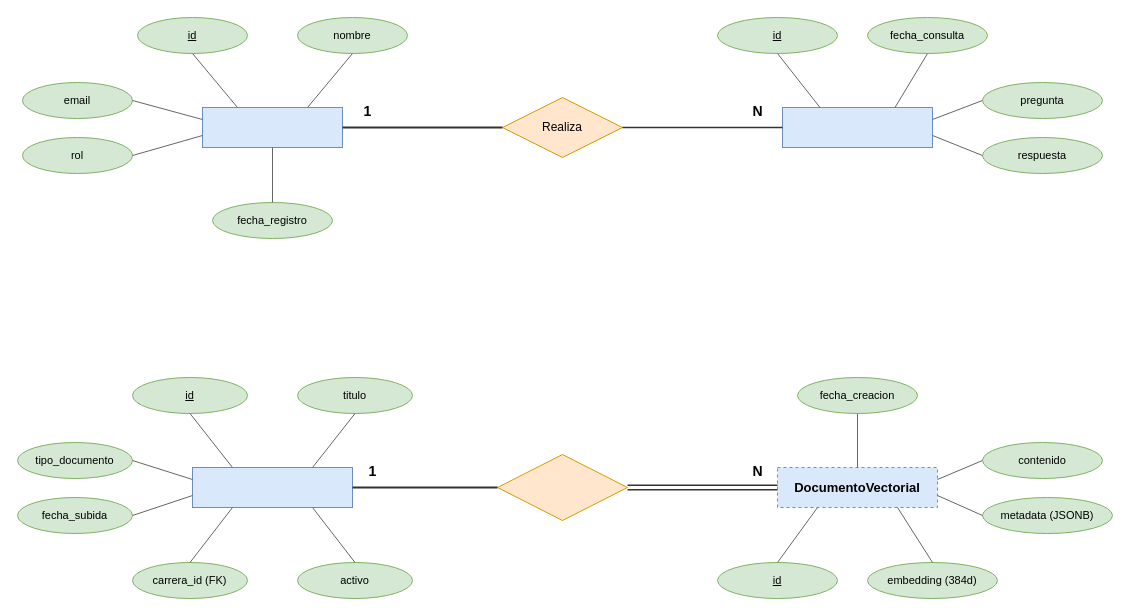
Some shapes in this 1130 by 616 pixel diagram are drawn without their labels. The centre of each missing label's shape, as x and y in pixels:
DocumentoMetadata: point 272,487
HistorialConsulta: point 857,127
Se divide en: point 562,487
Usuario: point 272,127
